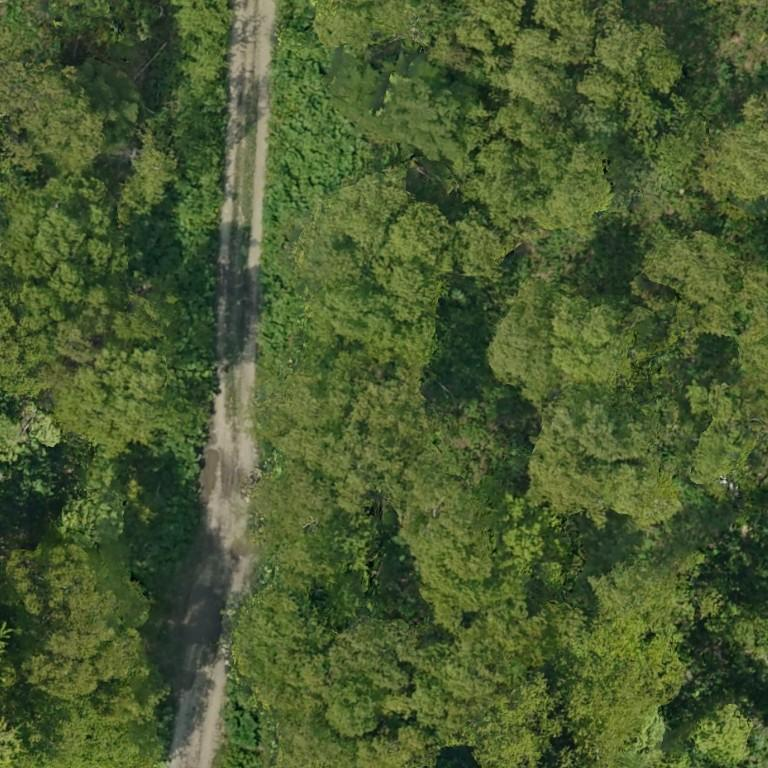hogweed: (261, 52, 374, 351), (225, 699, 258, 752)
